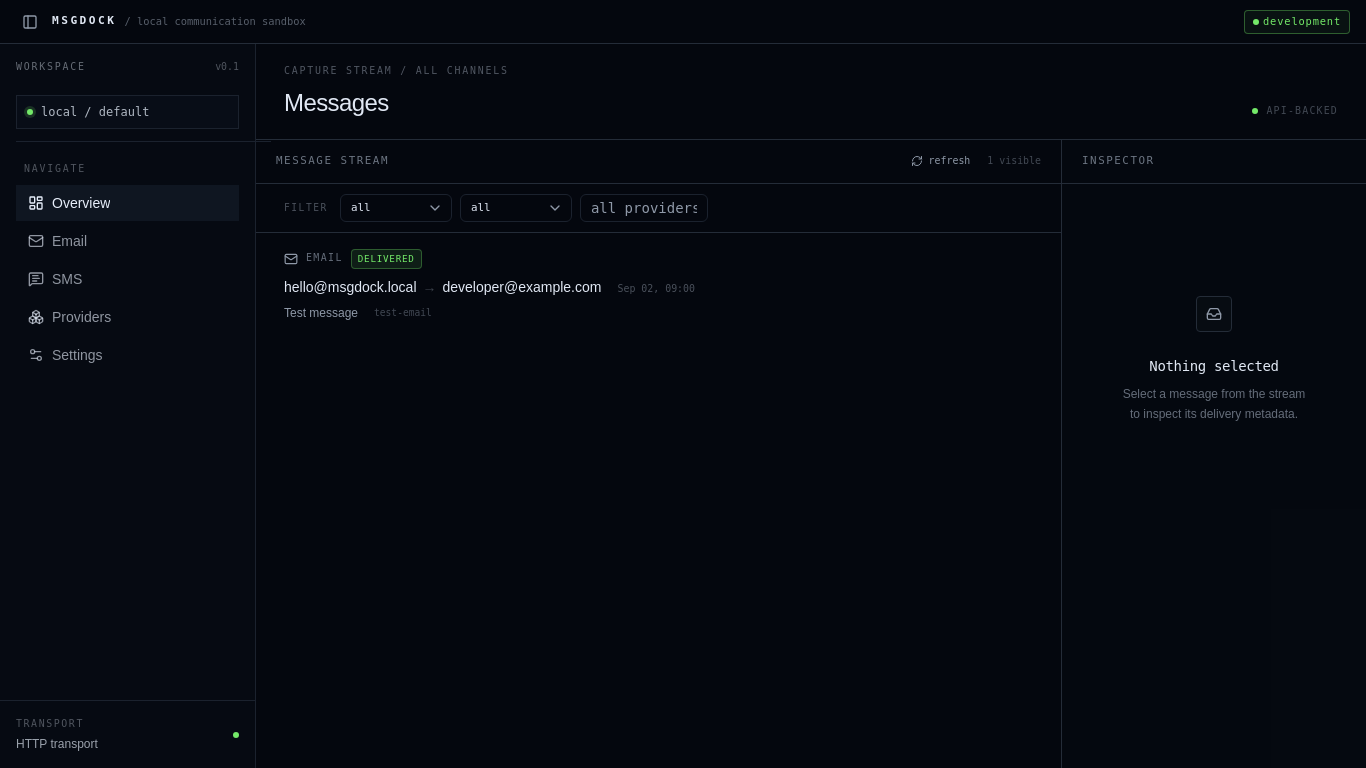
Scenario: MsgDock message workspace › shows an inspector error when the selected message is no longer available
This screenshot has width=1366, height=768.
Click the button with aria-label "Test message" at (658, 285), box x1=256 y1=233 x2=1061 y2=337
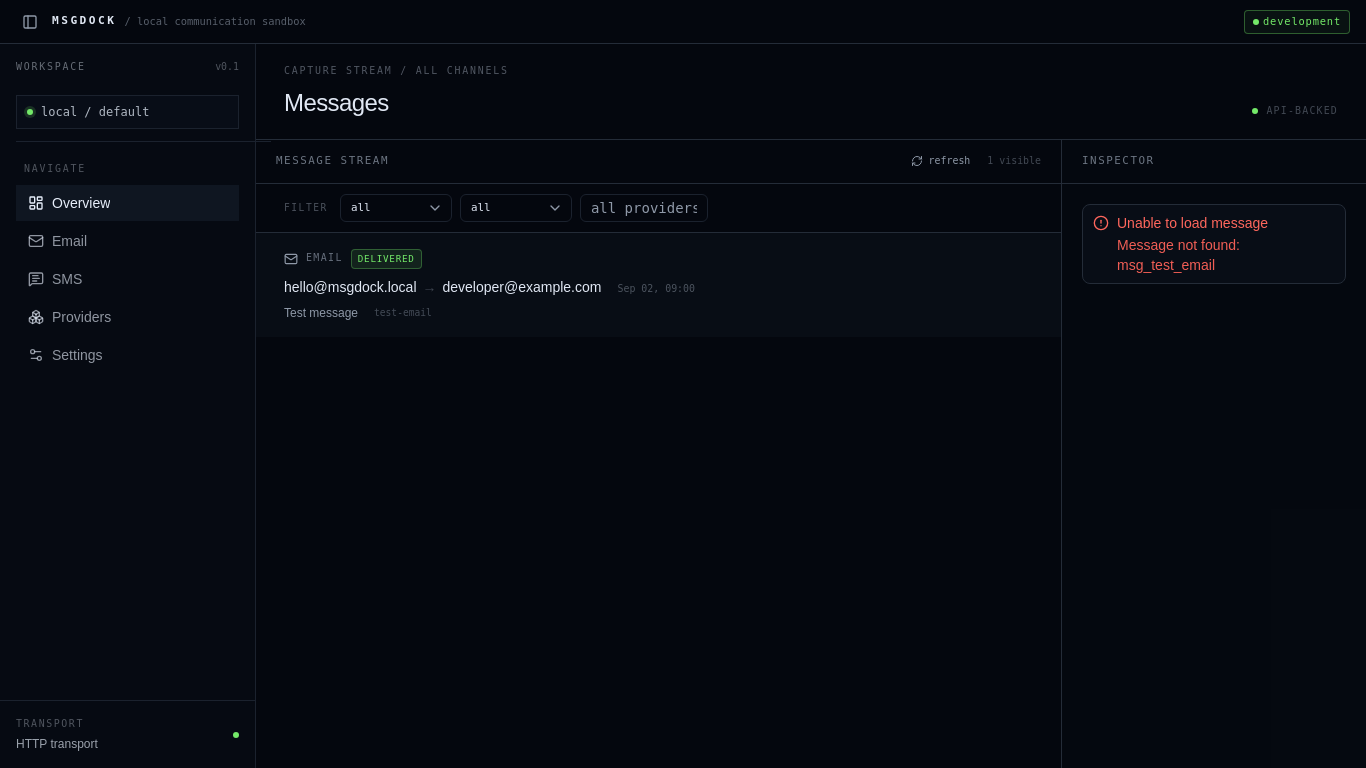
Check: the text "Unable to load message" is shown, box x1=1117 y1=215 x2=1268 y2=231
Check: the text "Message not found: msg_test_email" is shown, box x1=1117 y1=237 x2=1240 y2=273
